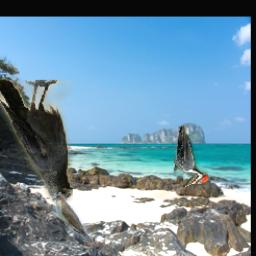Crow: (0, 81, 73, 202)
Cuckoo: (52, 194, 94, 242)
Woodpecker: (175, 127, 209, 188)
